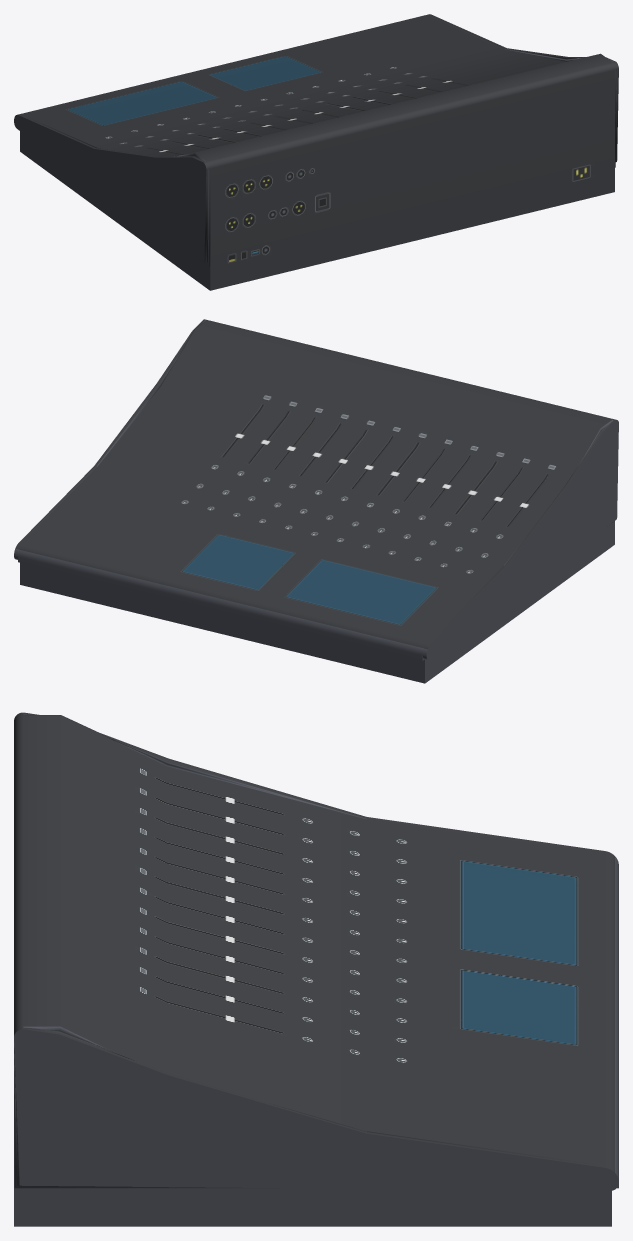
The model's file is allen-heath-sq-6.glb.
The picture shows the model from 3 angles, top to bottom: view 1: azimuth 30°, elevation 25°; view 2: azimuth 150°, elevation 25°; view 3: azimuth 270°, elevation 25°; orthographic projection. The views are drawn at different scales.
Parts seen in each view (by area): view 1: allen-heath-sq-6-body; view 2: allen-heath-sq-6-body; view 3: allen-heath-sq-6-body.
Boxes of the visible parts, <box> form: allen-heath-sq-6-body: <box>14,14,618,290</box>; allen-heath-sq-6-body: <box>14,319,618,683</box>; allen-heath-sq-6-body: <box>14,712,618,1226</box>.
Size of the model in its own units: 0.638 by 0.198 by 0.5149.
Materials: 1 (1 with a texture image).
